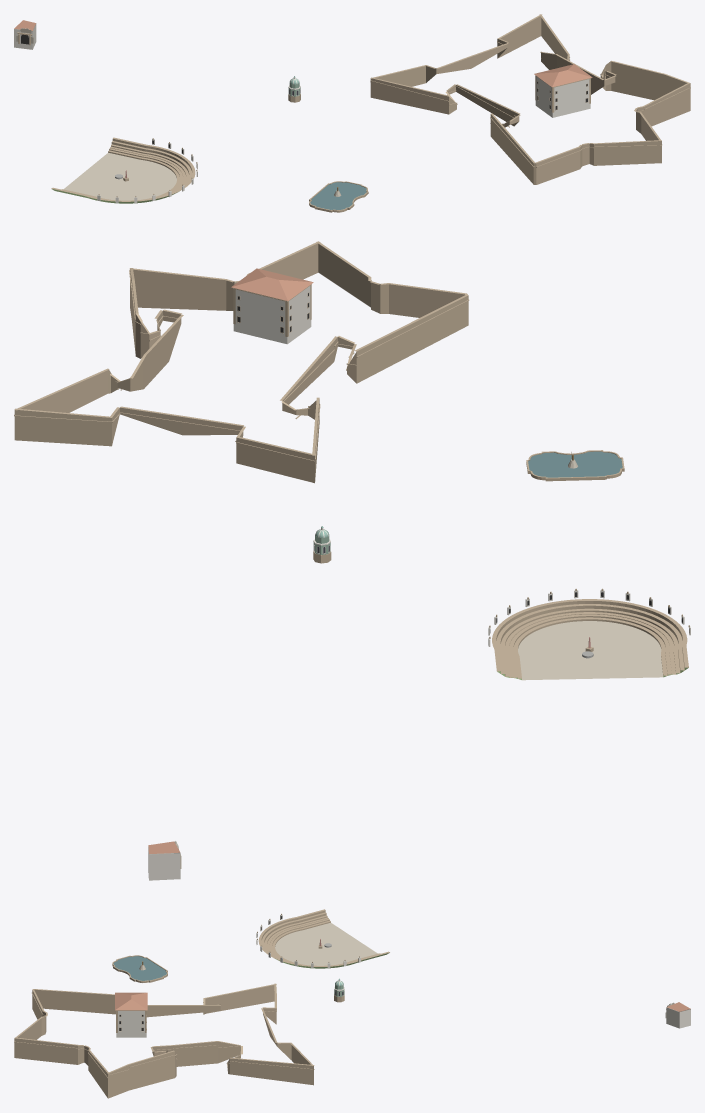
The model's file is boboli.glb.
3 views of the same model, one above another, from view 1: azimuth 30°, elevation 25°; view 2: azimuth 150°, elevation 25°; view 3: azimuth 270°, elevation 25° (orthographic). The views are drawn at different scales.
Parts seen in each view (by area): view 1: forte_belvedere@1590-99999.stone, anfiteatro_arena@1550-99999.gravel, gradinate@1599-99999.stone, palazzina_belvedere@1565-99999.plaster, vasca_nettuno@1777-99999.water, palazzina_belvedere@1565-99999.roof, palazzina_belvedere@1565-99999.stone, vasca_nettuno@1777-99999.stone; view 2: forte_belvedere@1590-99999.stone, anfiteatro_arena@1550-99999.gravel, gradinate@1599-99999.stone, palazzina_belvedere@1565-99999.plaster, vasca_nettuno@1777-99999.water, palazzina_belvedere@1565-99999.roof; view 3: forte_belvedere@1590-99999.stone, anfiteatro_arena@1550-99999.gravel, gradinate@1599-99999.stone, vasca_nettuno@1777-99999.water, palazzina_belvedere@1565-99999.plaster, palazzina_belvedere@1565-99999.roof, grotta_buontalenti@1583-99999.plaster.
Part boxes in pixels (x1,y1,x2,y2): forte_belvedere@1590-99999.stone: [370, 14, 690, 184]; anfiteatro_arena@1550-99999.gravel: [63, 152, 176, 200]; gradinate@1599-99999.stone: [51, 137, 195, 201]; palazzina_belvedere@1565-99999.plaster: [535, 76, 590, 117]; vasca_nettuno@1777-99999.water: [310, 182, 366, 209]; palazzina_belvedere@1565-99999.roof: [534, 64, 592, 87]; palazzina_belvedere@1565-99999.stone: [535, 75, 591, 112]; vasca_nettuno@1777-99999.stone: [309, 181, 368, 212]; forte_belvedere@1590-99999.stone: [14, 241, 469, 483]; anfiteatro_arena@1550-99999.gravel: [518, 621, 663, 680]; gradinate@1599-99999.stone: [492, 599, 688, 678]; palazzina_belvedere@1565-99999.plaster: [233, 286, 311, 344]; vasca_nettuno@1777-99999.water: [528, 451, 622, 477]; palazzina_belvedere@1565-99999.roof: [231, 268, 313, 300]; forte_belvedere@1590-99999.stone: [14, 983, 314, 1098]; anfiteatro_arena@1550-99999.gravel: [275, 922, 377, 965]; gradinate@1599-99999.stone: [258, 909, 389, 966]; vasca_nettuno@1777-99999.water: [113, 956, 166, 980]; palazzina_belvedere@1565-99999.plaster: [116, 1011, 146, 1037]; palazzina_belvedere@1565-99999.roof: [115, 992, 147, 1010]; grotta_buontalenti@1583-99999.plaster: [666, 1003, 690, 1028].
Size of the model in its own units: 353 by 92.47 by 447.
